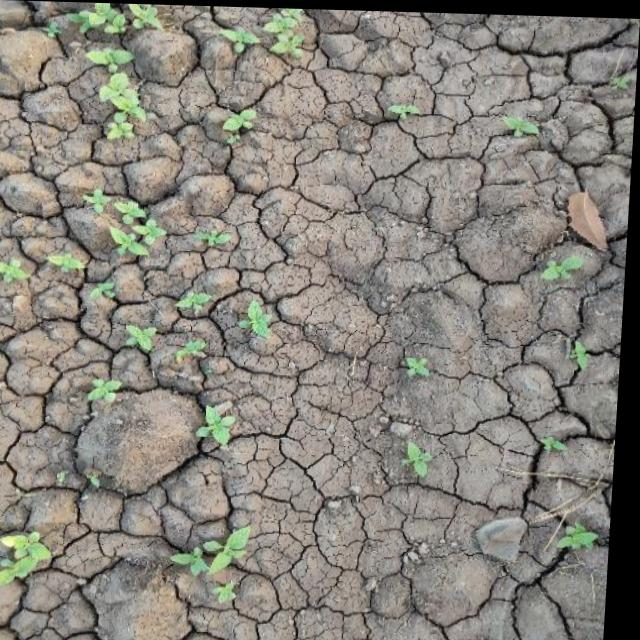crop: (56, 16, 171, 140), (173, 284, 288, 372), (174, 523, 268, 604), (82, 184, 176, 257), (0, 514, 70, 597), (222, 10, 331, 62), (545, 496, 610, 576), (193, 398, 256, 454), (405, 432, 454, 488), (395, 338, 446, 384), (228, 97, 261, 143)
